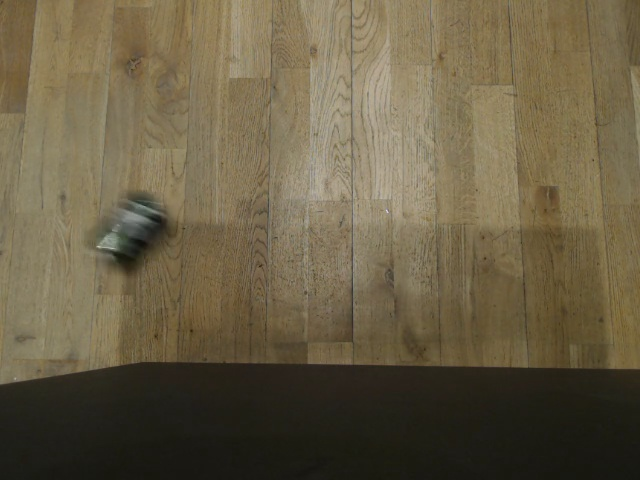beer: (90, 187, 172, 272)
